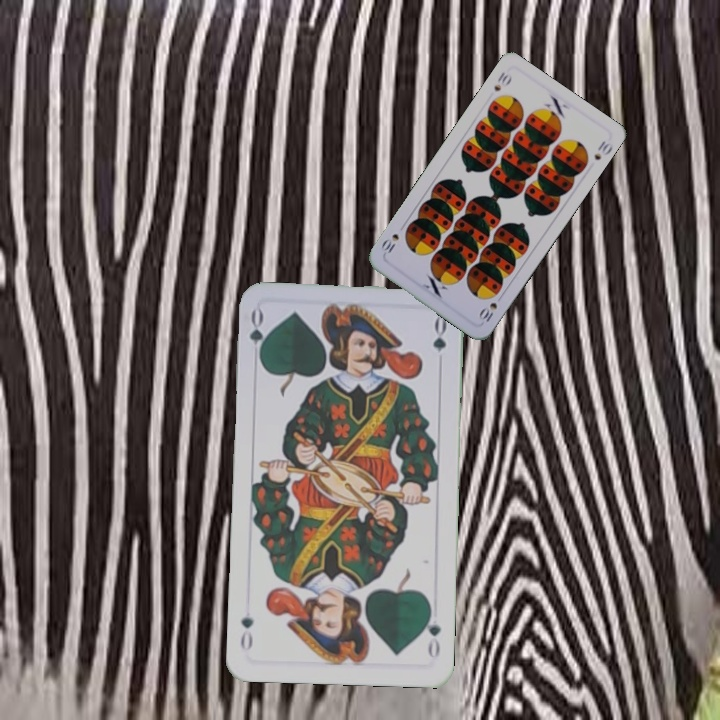GO: (245, 306, 271, 366), (420, 602, 444, 662)
S10: (474, 298, 500, 326), (490, 68, 515, 94)
